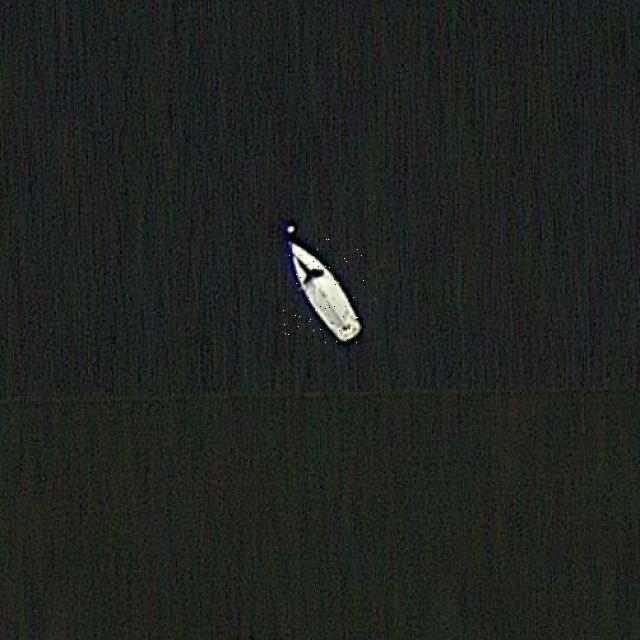boat: (283, 238, 365, 346)
